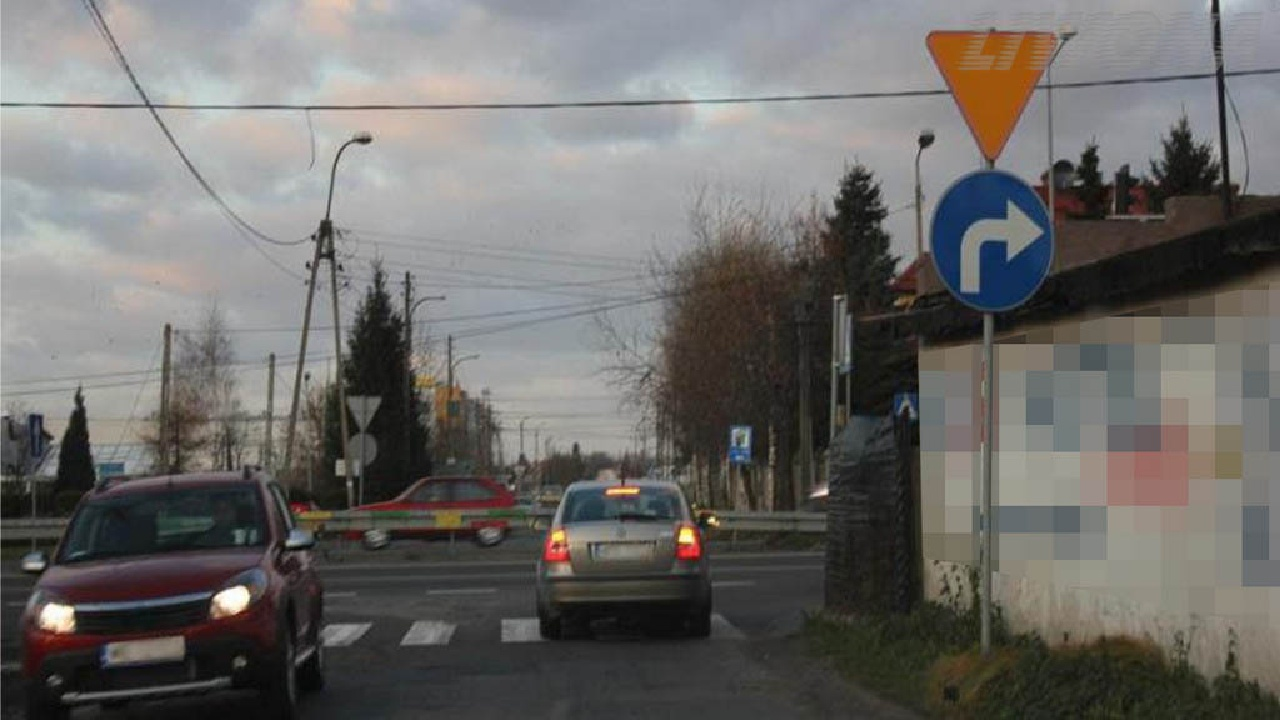A7: (924, 29, 1061, 162)
C2: (932, 168, 1055, 315)
